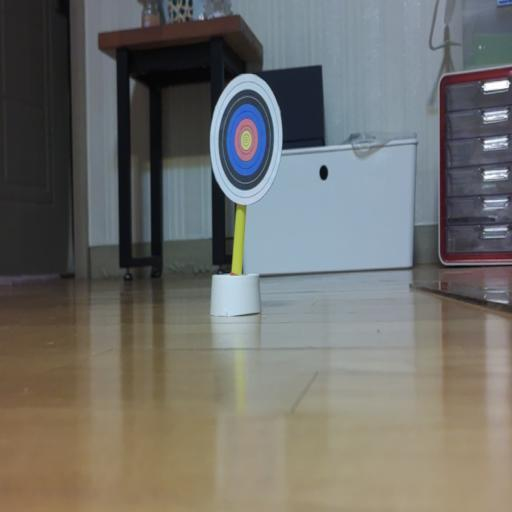target: (210, 74, 282, 205)
